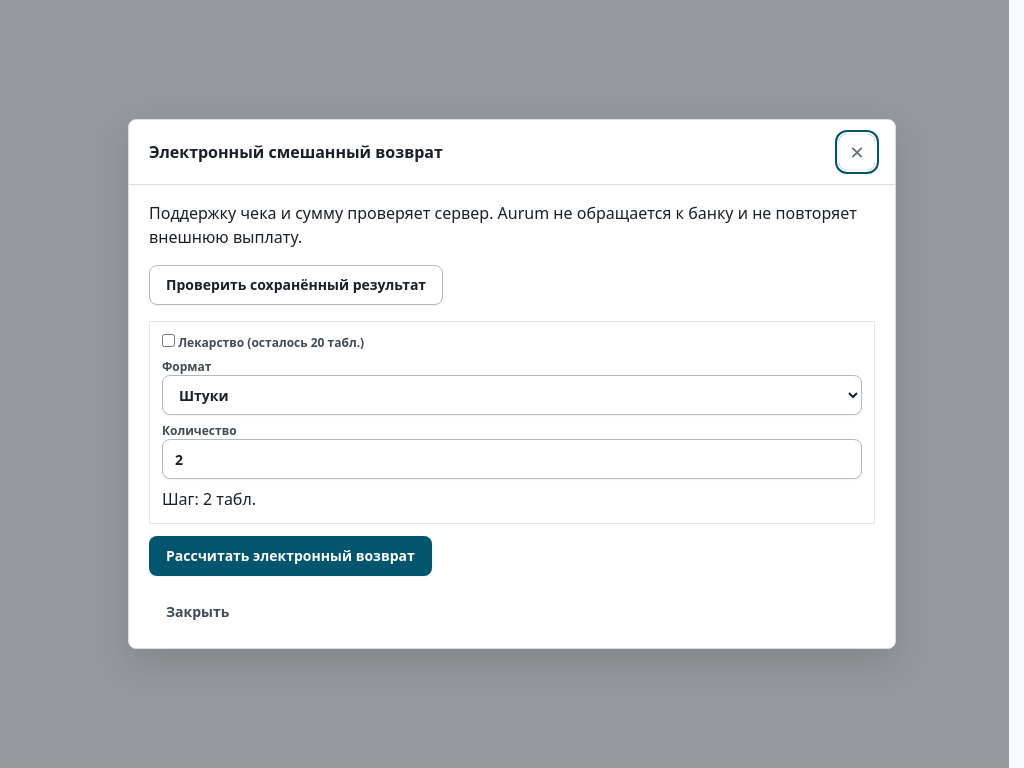
cashier electronic refund form › rejects non-whole/non-step/excess quantity 1.5
The width and height of the screenshot is (1024, 768).
Expected: the field named "Количество: Лекарство" is shown, 162,439 -> 862,479
Click the checkbox.
click(168, 340)  # box 162,334 -> 175,347
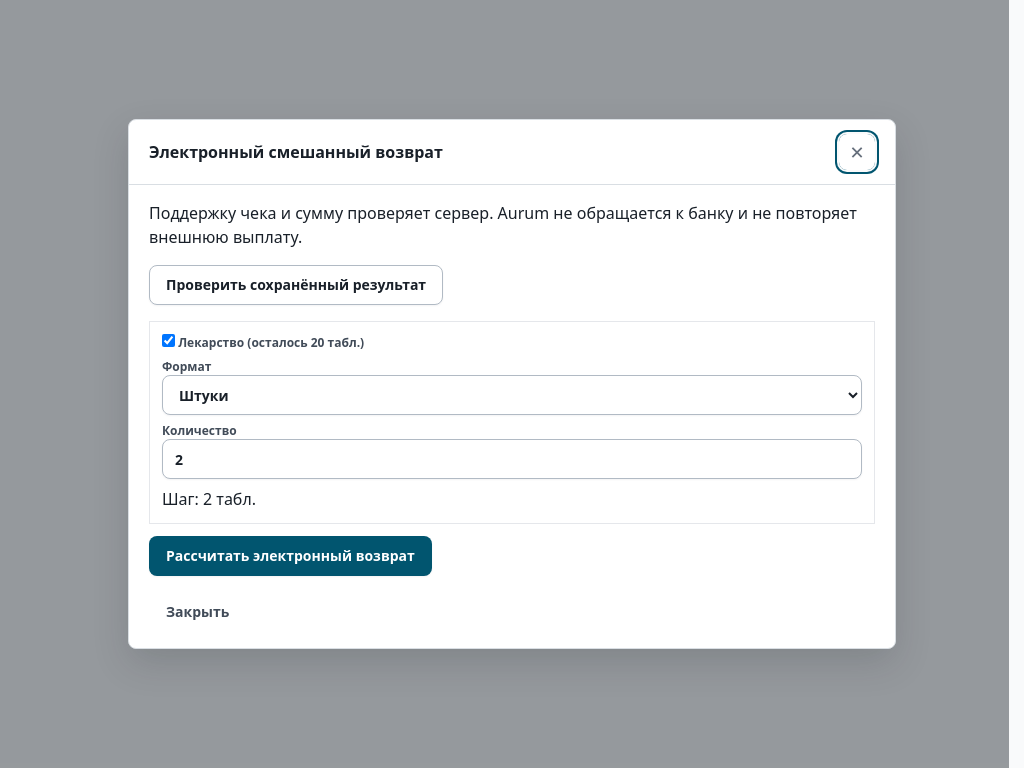
Replace the text in the field named "Количество: Лекарство" with "1.5" at (512, 459), box 162,439 -> 862,479
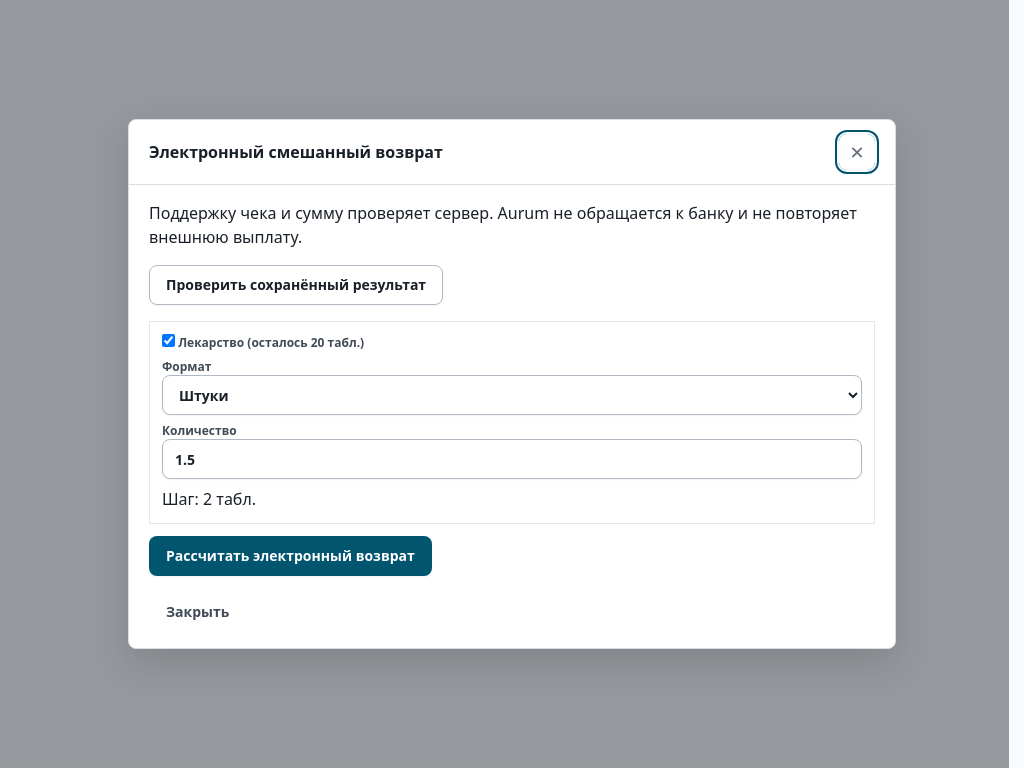
Submit the form named "Рассчитать электронный возврат", box 149,321 -> 875,576
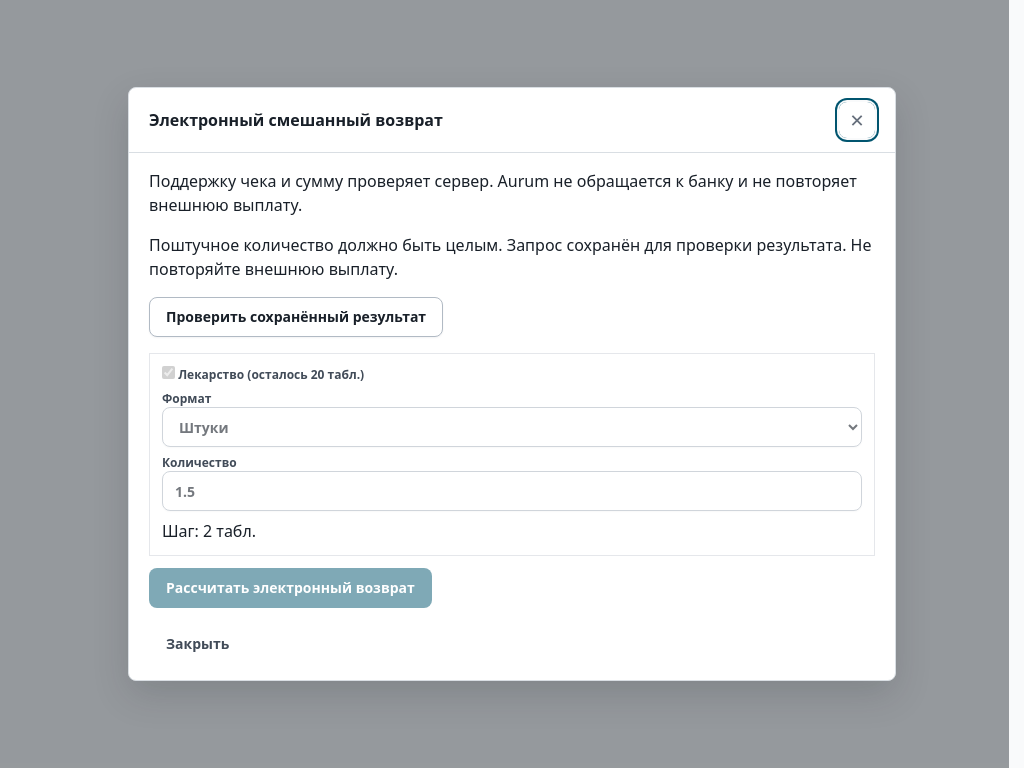
Expected: the message is shown, 149,233 -> 875,281
